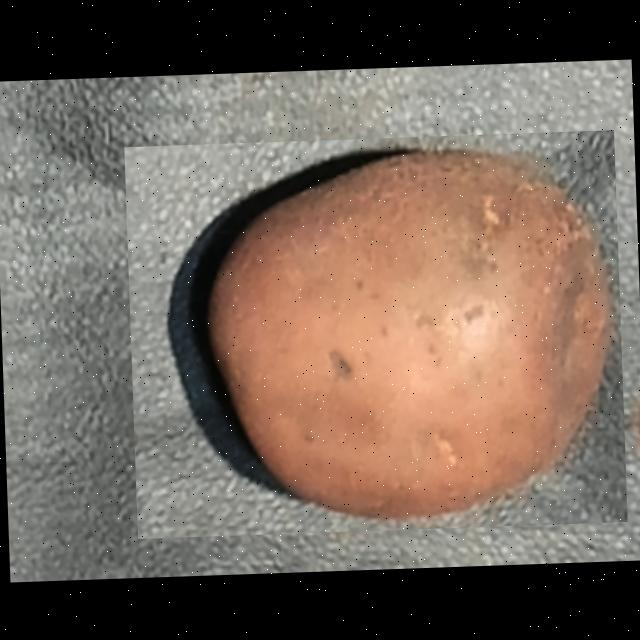Diseased-fungal potato: (123, 130, 626, 538)
